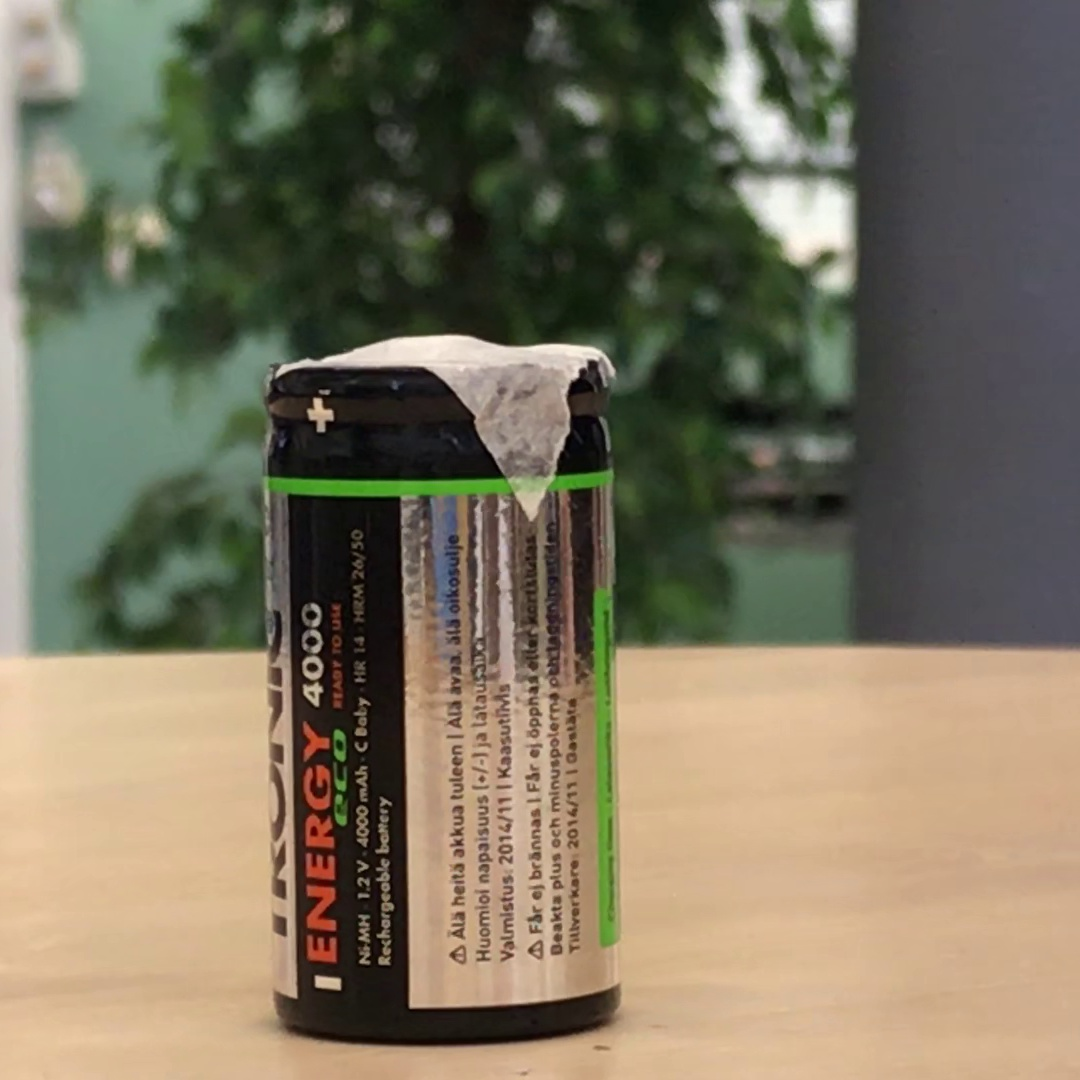keyword: (350, 907, 379, 973), (350, 856, 378, 907)
